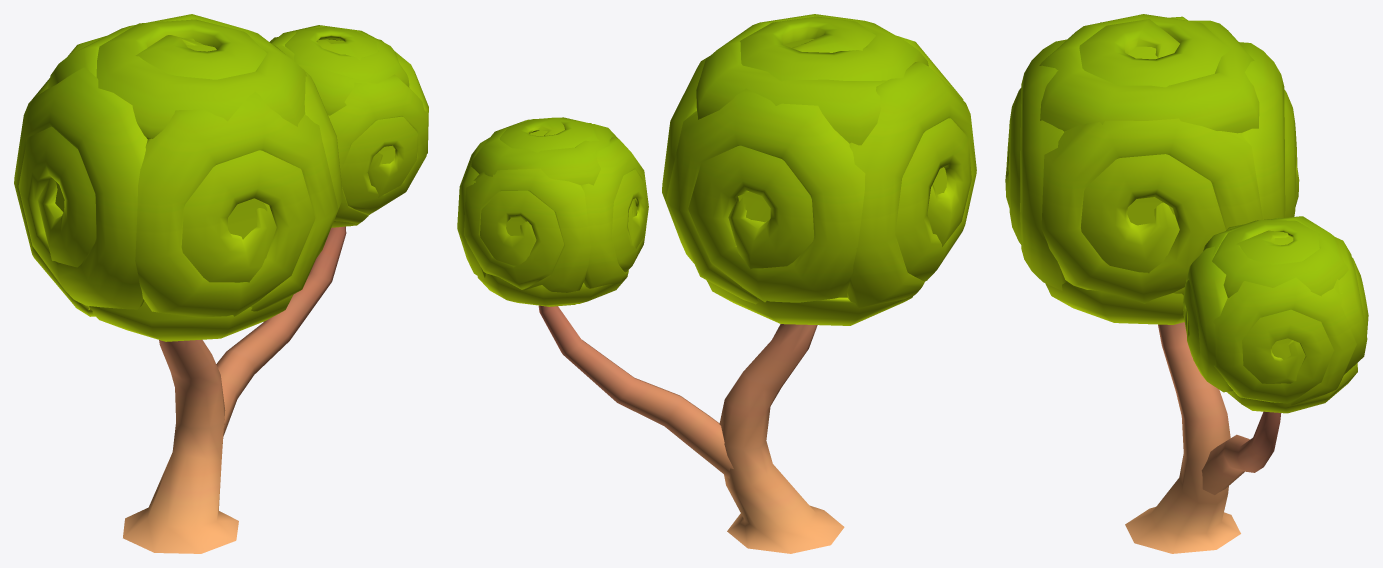
File: Tree1.FBX
3 views of the same model, side by side, from view 1: azimuth 30°, elevation 25°; view 2: azimuth 150°, elevation 25°; view 3: azimuth 270°, elevation 25° (orthographic). The views are drawn at different scales.
Visible parts, largest first — view 1: Tree1; view 2: Tree1; view 3: Tree1.
Part boxes in pixels (left/top/right/bottom): Tree1: left=14, top=14, right=428, bottom=553; Tree1: left=457, top=14, right=976, bottom=553; Tree1: left=1005, top=14, right=1368, bottom=553.
Size of the model in its own units: 665 by 748 by 507.
